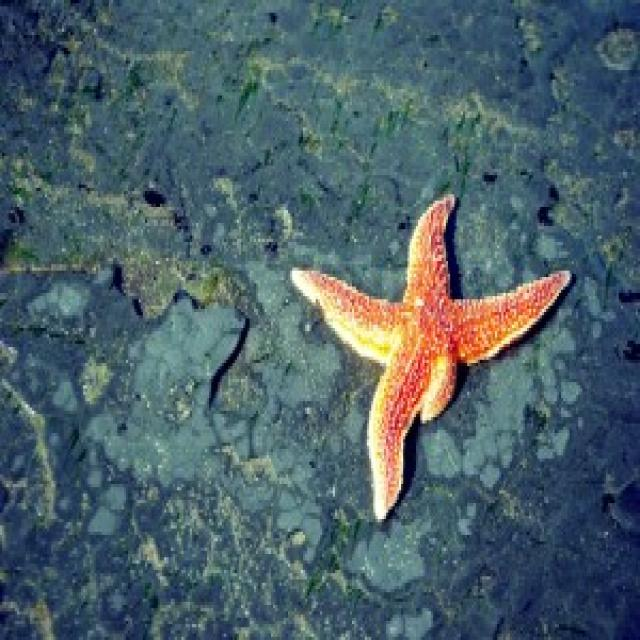Starfish: (288, 190, 574, 521)
